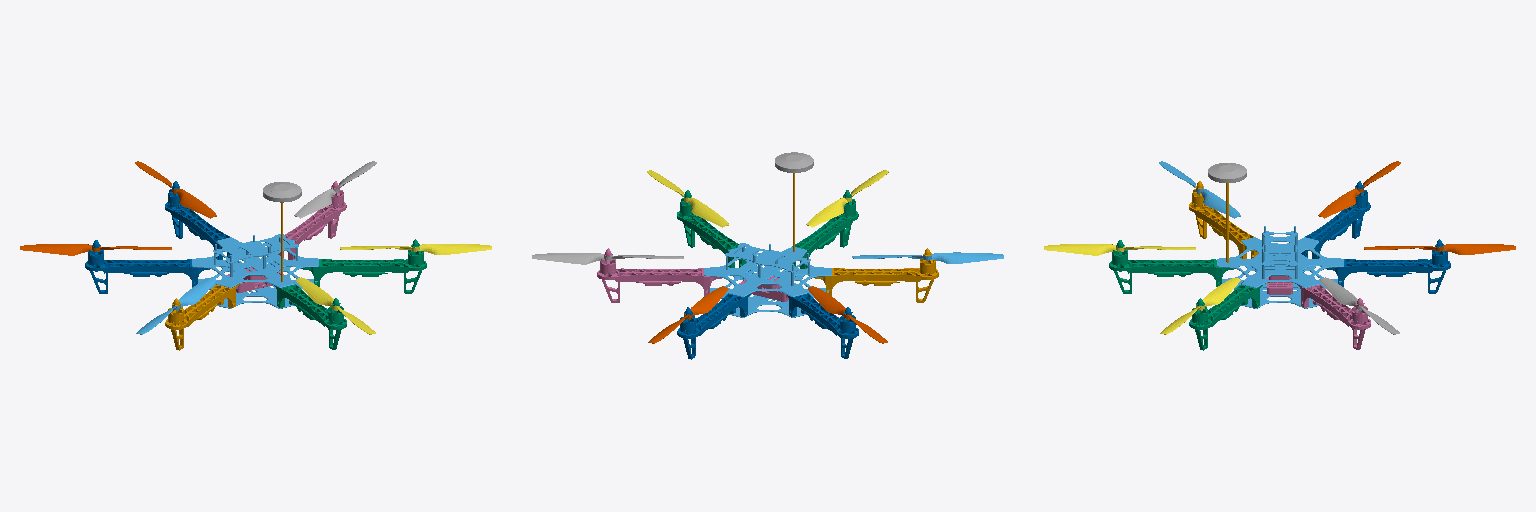
--- What the picture shows (computed from the rendered views, not written in the file) ---
3 views of the same robot in one strip: view 1: azimuth 30°, elevation 25°; view 2: azimuth 150°, elevation 25°; view 3: azimuth 270°, elevation 25° (orthographic).
Model F550_rd_0 with 20 links and 19 joints (2 revolute, 6 continuous, 11 fixed), rooted at uav_0_base_link, posed every joint at zero.
Links seen in each view (by area): view 1: uav_0_base_link_inertia, wing_5, wing_4, wing_3, wing_0, wing_2, wing_1, rotor_4, rotor_5, rotor_0, rotor_3, rotor_2 (+2 smaller); view 2: uav_0_base_link_inertia, wing_2, wing_3, wing_1, wing_5, wing_0, wing_4, rotor_3, rotor_2, rotor_5, rotor_1, rotor_0 (+2 smaller); view 3: uav_0_base_link_inertia, wing_0, wing_1, wing_4, wing_2, wing_5, wing_3, rotor_1, rotor_0, rotor_2, rotor_4, rotor_5 (+2 smaller).
Boxes of the visible links, bbox=[...] form: uav_0_base_link_inertia: bbox=[192, 234, 318, 308]; wing_5: bbox=[85, 240, 209, 293]; wing_4: bbox=[302, 239, 426, 293]; wing_3: bbox=[165, 284, 238, 350]; wing_0: bbox=[275, 284, 346, 349]; wing_2: bbox=[278, 181, 346, 259]; wing_1: bbox=[165, 181, 230, 259]; rotor_4: bbox=[340, 244, 491, 254]; rotor_5: bbox=[20, 244, 171, 255]; rotor_0: bbox=[296, 277, 375, 334]; rotor_3: bbox=[136, 278, 216, 334]; rotor_2: bbox=[294, 161, 376, 218]; uav_0_base_link_inertia: bbox=[704, 243, 831, 317]; wing_2: bbox=[597, 248, 721, 302]; wing_3: bbox=[815, 248, 938, 302]; wing_1: bbox=[677, 294, 750, 359]; wing_5: bbox=[787, 293, 858, 358]; wing_0: bbox=[792, 190, 858, 268]; wing_4: bbox=[677, 190, 746, 267]; rotor_3: bbox=[852, 252, 1003, 263]; rotor_2: bbox=[532, 253, 683, 264]; rotor_5: bbox=[808, 286, 887, 343]; rotor_1: bbox=[648, 286, 728, 343]; rotor_0: bbox=[806, 170, 888, 227]; uav_0_base_link_inertia: bbox=[1217, 226, 1343, 308]; wing_0: bbox=[1109, 240, 1233, 293]; wing_1: bbox=[1327, 239, 1450, 293]; wing_4: bbox=[1189, 285, 1262, 350]; wing_2: bbox=[1298, 284, 1370, 349]; wing_5: bbox=[1301, 181, 1370, 258]; wing_3: bbox=[1189, 181, 1258, 258]; rotor_1: bbox=[1364, 244, 1515, 254]; rotor_0: bbox=[1044, 244, 1195, 255]; rotor_2: bbox=[1320, 277, 1399, 334]; rotor_4: bbox=[1160, 278, 1240, 334]; rotor_5: bbox=[1318, 161, 1400, 218].
Size in the robot's own frame: 0.7064 by 0.808 by 0.236 metres.
15 mesh visuals loaded from 8 distinct referenced files (6 binary STL); not drawn: 2 (reference not matched to a file when rendering).

robot.urdf — F550_rd_0:
<?xml version="1.0" ?>
<!-- =================================================================================== -->
<!-- |    This document was autogenerated by xacro from [local-path]/simulation/ros_catkin_ws/src/px4_simulation_stack-master/Tools/sitl_gazebo/models/F550_rd/F550_rd.xacro | -->
<!-- |    EDITING THIS FILE BY HAND IS NOT RECOMMENDED                                 | -->
<!-- =================================================================================== -->
<robot name="F550_rd_0" xmlns:xacro="http://www.ros.org/wiki/xacro">
  <link name="uav_0_base_link"/>
  <joint name="base_joint" type="fixed">
    <origin rpy="0 0 0" xyz="0 0 0"/>
    <parent link="uav_0_base_link"/>
    <child link="uav_0_base_link_inertia"/>
  </joint>
  <!-- uav_0_base_link -->
  <link name="uav_0_base_link_inertia">
    <inertial>
      <mass value="1.5"/>
      <!-- [kg] -->
      <origin xyz="0 0 0"/>
      <inertia ixx="0.00012113" ixy="-2.4623E-08" ixz="1.6419E-06" iyy="0.00013125" iyz="6.0617E-07" izz="1.8253E-05"/>
    </inertial>
    <visual>
      <origin rpy="0 0 0" xyz="0 0 0"/>
      <geometry>
        <mesh filename="model://F550/meshes/base_link.STL" scale="1 1 1"/>
      </geometry>
    </visual>
    <collision>
      <origin rpy="0 0 0" xyz="0 0 0.03"/>
      <geometry>
        <cylinder length="0.13" radius="0.295"/>
      </geometry>
    </collision>
  </link>
  <gazebo>
    <plugin filename="libgazebo_multirotor_base_plugin.so" name="rosbag">
      <robotNamespace></robotNamespace>
      <linkName>uav_0_base_link</linkName>
      <rotorVelocitySlowdownSim>10</rotorVelocitySlowdownSim>
    </plugin>
  </gazebo>
  <gazebo reference="uav_0_base_link">
    <material>Gazebo/Black</material>
    <collision name="uav_0_base_link_inertia_collision">
      <surface>
        <contact>
          <ode>
            <min_depth>0.001</min_depth>
            <max_vel>0.0</max_vel>
          </ode>
        </contact>
        <friction>
          <ode/>
        </friction>
      </surface>
    </collision>
  </gazebo>
  <!-- wing joint -->
  <joint name="wing_0_joint" type="fixed">
    <origin rpy="0 0 -1.57079632679" xyz="0 -0.1875 0.026"/>
    <axis xyz="0 0 0"/>
    <parent link="uav_0_base_link"/>
    <child link="wing_0"/>
  </joint>
  <!-- wing link -->
  <link name="wing_0">
    <inertial>
      <origin rpy="0 0 0" xyz="0.033233 0.00054387 0.012567"/>
      <mass value="0.11819"/>
      <inertia ixx="2.1906E-05" ixy="7.962E-07" ixz="-6.9968E-05" iyy="0.0002878" iyz="2.0567E-07" izz="0.0002659"/>
    </inertial>
    <visual>
      <geometry>
        <mesh filename="model://F550/meshes/wing.STL" scale="1 1 1"/>
      </geometry>
    </visual>
  </link>
  <gazebo reference="wing_0">
    <material>Gazebo/White</material>
  </gazebo>
  <!-- rotor joint -->
  <joint name="rotor_0_joint" type="continuous">
    <origin rpy="0 0 0" xyz="0.0865 0.0005 0.033"/>
    <axis xyz="0 0 1"/>
    <parent link="wing_0"/>
    <child link="rotor_0"/>
  </joint>
  <!-- rotor link -->
  <link name="rotor_0">
    <inertial>
      <origin rpy="0 0 0" xyz="0 0 0.0078525"/>
      <mass value="0.0091837"/>
      <inertia ixx="3.009E-07" ixy="1.5042E-07" ixz="0" iyy="3.4024E-05" iyz="0" izz="3.4239E-05"/>
    </inertial>
    <visual>
      <geometry>
        <mesh filename="model://F550/meshes/cw_prop.STL" scale="1 1 1"/>
      </geometry>
    </visual>
    <collision>
      <geometry>
        <cylinder length="0.03" radius="0.13"/>
      </geometry>
    </collision>
  </link>
  <gazebo>
    <plugin filename="libgazebo_motor_model.so" name="right_motor_model">
      <robotNamespace></robotNamespace>
      <jointName>rotor_0_joint</jointName>
      <linkName>rotor_0</linkName>
      <turningDirection>cw</turningDirection>
      <timeConstantUp>0.0125</timeConstantUp>
      <timeConstantDown>0.025</timeConstantDown>
      <maxRotVelocity>1500</maxRotVelocity>
      <motorConstant>8.54858e-06</motorConstant>
      <momentConstant>0.06</momentConstant>
      <commandSubTopic>/gazebo/command/motor_speed</commandSubTopic>
      <motorNumber>0</motorNumber>
      <rotorDragCoefficient>0.000806428</rotorDragCoefficient>
      <rollingMomentCoefficient>1e-06</rollingMomentCoefficient>
      <motorSpeedPubTopic>/motor_speed/0</motorSpeedPubTopic>
      <rotorVelocitySlowdownSim>10</rotorVelocitySlowdownSim>
    </plugin>
  </gazebo>
  <gazebo reference="rotor_0">
    <material>Gazebo/Black</material>
  </gazebo>
  <!-- wing joint -->
  <joint name="wing_1_joint" type="fixed">
    <origin rpy="0 0 1.57079632679" xyz="0 0.1875 0.026"/>
    <axis xyz="0 0 0"/>
    <parent link="uav_0_base_link"/>
    <child link="wing_1"/>
  </joint>
  <!-- wing link -->
  <link name="wing_1">
    <inertial>
      <origin rpy="0 0 0" xyz="0.033233 0.00054387 0.012567"/>
      <mass value="0.11819"/>
      <inertia ixx="2.1906E-05" ixy="7.962E-07" ixz="-6.9968E-05" iyy="0.0002878" iyz="2.0567E-07" izz="0.0002659"/>
    </inertial>
    <visual>
      <geometry>
        <mesh filename="model://F550/meshes/wing.STL" scale="1 1 1"/>
      </geometry>
    </visual>
  </link>
  <gazebo reference="wing_1">
    <material>Gazebo/White</material>
  </gazebo>
  <!-- rotor joint -->
  <joint name="rotor_1_joint" type="continuous">
    <origin rpy="0 0 0" xyz="0.0865 0.0005 0.033"/>
    <axis xyz="0 0 1"/>
    <parent link="wing_1"/>
    <child link="rotor_1"/>
  </joint>
  <!-- rotor link -->
  <link name="rotor_1">
    <inertial>
      <origin rpy="0 0 0" xyz="0 0 0.0078525"/>
      <mass value="0.0091837"/>
      <inertia ixx="3.00752E-07" ixy="-1.4455E-07" ixz="0" iyy="3.41061E-05" iyz="0" izz="3.43204E-05"/>
    </inertial>
    <visual>
      <geometry>
        <mesh filename="model://F550/meshes/ccw_prop.STL" scale="1 1 1"/>
      </geometry>
    </visual>
    <collision>
      <geometry>
        <cylinder length="0.03" radius="0.13"/>
      </geometry>
    </collision>
  </link>
  <gazebo>
    <plugin filename="libgazebo_motor_model.so" name="left_motor_model">
      <robotNamespace></robotNamespace>
      <jointName>rotor_1_joint</jointName>
      <linkName>rotor_1</linkName>
      <turningDirection>ccw</turningDirection>
      <timeConstantUp>0.0125</timeConstantUp>
      <timeConstantDown>0.025</timeConstantDown>
      <maxRotVelocity>1500</maxRotVelocity>
      <motorConstant>8.54858e-06</motorConstant>
      <momentConstant>0.06</momentConstant>
      <commandSubTopic>/gazebo/command/motor_speed</commandSubTopic>
      <motorNumber>1</motorNumber>
      <rotorDragCoefficient>0.000806428</rotorDragCoefficient>
      <rollingMomentCoefficient>1e-06</rollingMomentCoefficient>
      <motorSpeedPubTopic>/motor_speed/1</motorSpeedPubTopic>
      <rotorVelocitySlowdownSim>10</rotorVelocitySlowdownSim>
    </plugin>
  </gazebo>
  <gazebo reference="rotor_1">
    <material>Gazebo/Orange</material>
  </gazebo>
  <!-- wing joint -->
  <joint name="wing_2_joint" type="fixed">
    <origin rpy="0 0 0.523598775598" xyz="0.16237976321 0.09375 0.026"/>
    <axis xyz="0 0 0"/>
    <parent link="uav_0_base_link"/>
    <child link="wing_2"/>
  </joint>
  <!-- wing link -->
  <link name="wing_2">
    <inertial>
      <origin rpy="0 0 0" xyz="0.033233 0.00054387 0.012567"/>
      <mass value="0.11819"/>
      <inertia ixx="2.1906E-05" ixy="7.962E-07" ixz="-6.9968E-05" iyy="0.0002878" iyz="2.0567E-07" izz="0.0002659"/>
    </inertial>
    <visual>
      <geometry>
        <mesh filename="model://F550/meshes/wing.STL" scale="1 1 1"/>
      </geometry>
    </visual>
  </link>
  <gazebo reference="wing_2">
    <material>Gazebo/White</material>
  </gazebo>
  <!-- rotor joint -->
  <joint name="rotor_2_joint" type="continuous">
    <origin rpy="0 0 0" xyz="0.0865 0.0005 0.033"/>
    <axis xyz="0 0 1"/>
    <parent link="wing_2"/>
    <child link="rotor_2"/>
  </joint>
  <!-- rotor link -->
  <link name="rotor_2">
    <inertial>
      <origin rpy="0 0 0" xyz="0 0 0.0078525"/>
      <mass value="0.0091837"/>
      <inertia ixx="3.009E-07" ixy="1.5042E-07" ixz="0" iyy="3.4024E-05" iyz="0" izz="3.4239E-05"/>
    </inertial>
    <visual>
      <geometry>
        <mesh filename="model://F550/meshes/cw_prop.STL" scale="1 1 1"/>
      </geometry>
    </visual>
    <collision>
      <geometry>
        <cylinder length="0.03" radius="0.13"/>
      </geometry>
    </collision>
  </link>
  <gazebo>
    <plugin filename="libgazebo_motor_model.so" name="left_front_motor_model">
      <robotNamespace></robotNamespace>
      <jointName>rotor_2_joint</jointName>
      <linkName>rotor_2</linkName>
      <turningDirection>cw</turningDirection>
      <timeConstantUp>0.0125</timeConstantUp>
      <timeConstantDown>0.025</timeConstantDown>
      <maxRotVelocity>1500</maxRotVelocity>
      <motorConstant>8.54858e-06</motorConstant>
      <momentConstant>0.06</momentConstant>
      <commandSubTopic>/gazebo/command/motor_speed</commandSubTopic>
      <motorNumber>2</motorNumber>
      <rotorDragCoefficient>0.000806428</rotorDragCoefficient>
      <rollingMomentCoefficient>1e-06</rollingMomentCoefficient>
      <motorSpeedPubTopic>/motor_speed/2</motorSpeedPubTopic>
      <rotorVelocitySlowdownSim>10</rotorVelocitySlowdownSim>
    </plugin>
  </gazebo>
  <gazebo reference="rotor_2">
    <material>Gazebo/Black</material>
  </gazebo>
  <!-- wing joint -->
  <joint name="wing_3_joint" type="fixed">
    <origin rpy="0 0 -2.61799387799" xyz="-0.16237976321 -0.09375 0.026"/>
    <axis xyz="0 0 0"/>
    <parent link="uav_0_base_link"/>
    <child link="wing_3"/>
  </joint>
  <!-- wing link -->
  <link name="wing_3">
    <inertial>
      <origin rpy="0 0 0" xyz="0.033233 0.00054387 0.012567"/>
      <mass value="0.11819"/>
      <inertia ixx="2.1906E-05" ixy="7.962E-07" ixz="-6.9968E-05" iyy="0.0002878" iyz="2.0567E-07" izz="0.0002659"/>
    </inertial>
    <visual>
      <geometry>
        <mesh filename="model://F550/meshes/wing.STL" scale="1 1 1"/>
      </geometry>
    </visual>
  </link>
  <gazebo reference="wing_3">
    <material>Gazebo/Red</material>
  </gazebo>
  <!-- rotor joint -->
  <joint name="rotor_3_joint" type="continuous">
    <origin rpy="0 0 0" xyz="0.0865 0.0005 0.033"/>
    <axis xyz="0 0 1"/>
    <parent link="wing_3"/>
    <child link="rotor_3"/>
  </joint>
  <!-- rotor link -->
  <link name="rotor_3">
    <inertial>
      <origin rpy="0 0 0" xyz="0 0 0.0078525"/>
      <mass value="0.0091837"/>
      <inertia ixx="3.00752E-07" ixy="-1.4455E-07" ixz="0" iyy="3.41061E-05" iyz="0" izz="3.43204E-05"/>
    </inertial>
    <visual>
      <geometry>
        <mesh filename="model://F550/meshes/ccw_prop.STL" scale="1 1 1"/>
      </geometry>
    </visual>
    <collision>
      <geometry>
        <cylinder length="0.03" radius="0.13"/>
      </geometry>
    </collision>
  </link>
  <gazebo>
    <plugin filename="libgazebo_motor_model.so" name="right_rear_motor_model">
      <robotNamespace></robotNamespace>
      <jointName>rotor_3_joint</jointName>
      <linkName>rotor_3</linkName>
      <turningDirection>ccw</turningDirection>
      <timeConstantUp>0.0125</timeConstantUp>
      <timeConstantDown>0.025</timeConstantDown>
      <maxRotVelocity>1500</maxRotVelocity>
      <motorConstant>8.54858e-06</motorConstant>
      <momentConstant>0.06</momentConstant>
      <commandSubTopic>/gazebo/command/motor_speed</commandSubTopic>
      <motorNumber>3</motorNumber>
      <rotorDragCoefficient>0.000806428</rotorDragCoefficient>
      <rollingMomentCoefficient>1e-06</rollingMomentCoefficient>
      <motorSpeedPubTopic>/motor_speed/3</motorSpeedPubTopic>
      <rotorVelocitySlowdownSim>10</rotorVelocitySlowdownSim>
    </plugin>
  </gazebo>
  <gazebo reference="rotor_3">
    <material>Gazebo/Orange</material>
  </gazebo>
  <!-- wing joint -->
  <joint name="wing_4_joint" type="fixed">
    <origin rpy="0 0 -0.523598775598" xyz="0.16237976321 -0.09375 0.026"/>
    <axis xyz="0 0 0"/>
    <parent link="uav_0_base_link"/>
    <child link="wing_4"/>
  </joint>
  <!-- wing link -->
  <link name="wing_4">
    <inertial>
      <origin rpy="0 0 0" xyz="0.033233 0.00054387 0.012567"/>
      <mass value="0.11819"/>
      <inertia ixx="2.1906E-05" ixy="7.962E-07" ixz="-6.9968E-05" iyy="0.0002878" iyz="2.0567E-07" izz="0.0002659"/>
    </inertial>
    <visual>
      <geometry>
        <mesh filename="model://F550/meshes/wing.STL" scale="1 1 1"/>
      </geometry>
    </visual>
  </link>
  <gazebo reference="wing_4">
    <material>Gazebo/White</material>
  </gazebo>
  <!-- rotor joint -->
  <joint name="rotor_4_joint" type="continuous">
    <origin rpy="0 0 0" xyz="0.0865 0.0005 0.033"/>
    <axis xyz="0 0 1"/>
    <parent link="wing_4"/>
    <child link="rotor_4"/>
  </joint>
  <!-- rotor link -->
  <link name="rotor_4">
    <inertial>
      <origin rpy="0 0 0" xyz="0 0 0.0078525"/>
      <mass value="0.0091837"/>
      <inertia ixx="3.00752E-07" ixy="-1.4455E-07" ixz="0" iyy="3.41061E-05" iyz="0" izz="3.43204E-05"/>
    </inertial>
    <visual>
      <geometry>
        <mesh filename="model://F550/meshes/ccw_prop.STL" scale="1 1 1"/>
      </geometry>
    </visual>
    <collision>
      <geometry>
        <cylinder length="0.03" radius="0.13"/>
      </geometry>
    </collision>
  </link>
  <gazebo>
    <plugin filename="libgazebo_motor_model.so" name="right_front_motor_model">
      <robotNamespace></robotNamespace>
      <jointName>rotor_4_joint</jointName>
      <linkName>rotor_4</linkName>
      <turningDirection>ccw</turningDirection>
      <timeConstantUp>0.0125</timeConstantUp>
      <timeConstantDown>0.025</timeConstantDown>
      <maxRotVelocity>1500</maxRotVelocity>
      <motorConstant>8.54858e-06</motorConstant>
      <momentConstant>0.06</momentConstant>
      <commandSubTopic>/gazebo/command/motor_speed</commandSubTopic>
      <motorNumber>4</motorNumber>
      <rotorDragCoefficient>0.000806428</rotorDragCoefficient>
      <rollingMomentCoefficient>1e-06</rollingMomentCoefficient>
      <motorSpeedPubTopic>/motor_speed/4</motorSpeedPubTopic>
      <rotorVelocitySlowdownSim>10</rotorVelocitySlowdownSim>
    </plugin>
  </gazebo>
  <gazebo reference="rotor_4">
    <material>Gazebo/Orange</material>
  </gazebo>
  <!-- wing joint -->
  <joint name="wing_5_joint" type="fixed">
    <origin rpy="0 0 2.61799387799" xyz="-0.16237976321 0.09375 0.026"/>
    <axis xyz="0 0 0"/>
    <parent link="uav_0_base_link"/>
    <child link="wing_5"/>
  </joint>
  <!-- wing link -->
  <link name="wing_5">
    <inertial>
      <origin rpy="0 0 0" xyz="0.033233 0.00054387 0.012567"/>
      <mass value="0.11819"/>
      <inertia ixx="2.1906E-05" ixy="7.962E-07" ixz="-6.9968E-05" iyy="0.0002878" iyz="2.0567E-07" izz="0.0002659"/>
    </inertial>
    <visual>
      <geometry>
        <mesh filename="model://F550/meshes/wing.STL" scale="1 1 1"/>
      </geometry>
    </visual>
  </link>
  <gazebo reference="wing_5">
    <material>Gazebo/Red</material>
  </gazebo>
  <!-- rotor joint -->
  <joint name="rotor_5_joint" type="continuous">
    <origin rpy="0 0 0" xyz="0.0865 0.0005 0.033"/>
    <axis xyz="0 0 1"/>
    <parent link="wing_5"/>
    <child link="rotor_5"/>
  </joint>
  <!-- rotor link -->
  <link name="rotor_5">
    <inertial>
      <origin rpy="0 0 0" xyz="0 0 0.0078525"/>
      <mass value="0.0091837"/>
      <inertia ixx="3.009E-07" ixy="1.5042E-07" ixz="0" iyy="3.4024E-05" iyz="0" izz="3.4239E-05"/>
    </inertial>
    <visual>
      <geometry>
        <mesh filename="model://F550/meshes/cw_prop.STL" scale="1 1 1"/>
      </geometry>
    </visual>
    <collision>
      <geometry>
        <cylinder length="0.03" radius="0.13"/>
      </geometry>
    </collision>
  </link>
  <gazebo>
    <plugin filename="libgazebo_motor_model.so" name="left_rear_motor_model">
      <robotNamespace></robotNamespace>
      <jointName>rotor_5_joint</jointName>
      <linkName>rotor_5</linkName>
      <turningDirection>cw</turningDirection>
      <timeConstantUp>0.0125</timeConstantUp>
      <timeConstantDown>0.025</timeConstantDown>
      <maxRotVelocity>1500</maxRotVelocity>
      <motorConstant>8.54858e-06</motorConstant>
      <momentConstant>0.06</momentConstant>
      <commandSubTopic>/gazebo/command/motor_speed</commandSubTopic>
      <motorNumber>5</motorNumber>
      <rotorDragCoefficient>0.000806428</rotorDragCoefficient>
      <rollingMomentCoefficient>1e-06</rollingMomentCoefficient>
      <motorSpeedPubTopic>/motor_speed/5</motorSpeedPubTopic>
      <rotorVelocitySlowdownSim>10</rotorVelocitySlowdownSim>
    </plugin>
  </gazebo>
  <gazebo reference="rotor_5">
    <material>Gazebo/Black</material>
  </gazebo>
  <!-- link -->
  <link name="pixhawk">
    <inertial>
      <origin rpy="0 0 0" xyz="-0.0024647 9.4432E-05 0.011865"/>
      <mass value="0.074008"/>
      <inertia ixx="3.8198E-06" ixy="-6.11E-09" ixz="2.3562E-07" iyy="3.8099E-06" iyz="7.5702E-08" izz="4.7645E-08"/>
    </inertial>
    <visual>
      <geometry>
        <mesh filename="model://F550/meshes/pixhawk.STL" scale="1 1 1"/>
      </geometry>
    </visual>
  </link>
  <gazebo reference="pixhawk">
    <material>Gazebo/FlatBlack</material>
  </gazebo>
  <!-- joint -->
  <joint name="pixhawk_fix" type="fixed">
    <origin rpy="0 0 0" xyz="0 0 0"/>
    <parent link="uav_0_base_link"/>
    <child link="pixhawk"/>
    <axis xyz="0 0 0"/>
  </joint>
  <!-- link -->
  <link name="here_gps">
    <inertial>
      <origin rpy="0 0 0" xyz="-6.68E-05 -0.0084082 1.31210000000051E-06"/>
      <mass value="0.045664"/>
      <inertia ixx="1.18897973921917E-05" ixy="1.90905250559444E-08" ixz="-4.16447287511186E-11" iyy="2.23807703040404E-05" iyz="2.02155100330627E-11" izz="1.19471291213534E-05"/>
    </inertial>
    <visual>
      <geometry>
        <mesh filename="model://F550/meshes/here_gps.STL" scale="1 1 1"/>
      </geometry>
    </visual>
  </link>
  <gazebo reference="here_gps">
    <material>Gazebo/DarkGrey</material>
  </gazebo>
  <!-- joint -->
  <joint name="here_gps_fix" type="fixed">
    <origin rpy="0 0 0" xyz="0 -0.09 0.20"/>
    <parent link="uav_0_base_link"/>
    <child link="here_gps"/>
    <axis xyz="0 0 0"/>
  </joint>
  <!-- GPS Holder -->
  <!-- link -->
  <link name="gps_holder">
    <visual>
      <geometry>
        <cylinder length="0.165" radius="0.002"/>
      </geometry>
    </visual>
  </link>
  <gazebo reference="gps_holder">
    <material>Gazebo/DarkGrey</material>
  </gazebo>
  <!-- joint -->
  <joint name="gps_holder_fix" type="fixed">
    <origin rpy="0 0 0" xyz="0 -0.09 0.122"/>
    <parent link="uav_0_base_link"/>
    <child link="gps_holder"/>
  </joint>
  <gazebo>
    <plugin filename="libgazebo_gps_plugin.so" name="gps_plugin">
      <robotNamespace></robotNamespace>
      <gpsNoise>true</gpsNoise>
    </plugin>
  </gazebo>
  <gazebo>
    <plugin filename="libgazebo_mavlink_interface.so" name="mavlink_interface">
      <robotNamespace></robotNamespace>
      <imuSubTopic>/imu</imuSubTopic>
      <gpsSubTopic>/gps</gpsSubTopic>
      <mavlink_addr>INADDR_ANY</mavlink_addr>
      <mavlink_udp_port>14560</mavlink_udp_port>
      <serialEnabled>false</serialEnabled>
      <serialDevice>/dev/ttyACM0</serialDevice>
      <baudRate>921600</baudRate>
      <qgc_addr>INADDR_ANY</qgc_addr>
      <qgc_udp_port>14550</qgc_udp_port>
      <hil_mode>false</hil_mode>
      <hil_state_level>false</hil_state_level>
      <vehicle_is_tailsitter>false</vehicle_is_tailsitter>
      <send_odometry>false</send_odometry>
      <motorSpeedCommandPubTopic>/gazebo/command/motor_speed</motorSpeedCommandPubTopic>
      <control_channels>
        <channel name="rotor1">
          <input_index>0</input_index>
          <input_offset>0</input_offset>
          <input_scaling>1000</input_scaling>
          <zero_position_disarmed>0</zero_position_disarmed>
          <zero_position_armed>100</zero_position_armed>
          <joint_control_type>velocity</joint_control_type>
          <joint_name>rotor_0_joint</joint_name>
        </channel>
        <channel name="rotor2">
          <input_index>1</input_index>
          <input_offset>0</input_offset>
          <input_scaling>1000</input_scaling>
          <zero_position_disarmed>0</zero_position_disarmed>
          <zero_position_armed>100</zero_position_armed>
          <joint_control_type>velocity</joint_control_type>
          <joint_name>rotor_1_joint</joint_name>
        </channel>
        <channel name="rotor3">
          <input_index>2</input_index>
          <input_offset>0</input_offset>
          <input_scaling>1000</input_scaling>
          <zero_position_disarmed>0</zero_position_disarmed>
          <zero_position_armed>100</zero_position_armed>
          <joint_control_type>velocity</joint_control_type>
          <joint_name>rotor_2_joint</joint_name>
        </channel>
        <channel name="rotor4">
          <input_index>3</input_index>
          <input_offset>0</input_offset>
          <input_scaling>1000</input_scaling>
          <zero_position_disarmed>0</zero_position_disarmed>
          <zero_position_armed>100</zero_position_armed>
          <joint_control_type>velocity</joint_control_type>
          <joint_name>rotor_3_joint</joint_name>
        </channel>
        <channel name="rotor5">
          <input_index>4</input_index>
          <input_offset>0</input_offset>
          <input_scaling>1000</input_scaling>
          <zero_position_disarmed>0</zero_position_disarmed>
          <zero_position_armed>100</zero_position_armed>
          <joint_control_type>velocity</joint_control_type>
          <joint_name>rotor_4_joint</joint_name>
        </channel>
        <channel name="rotor6">
          <input_index>5</input_index>
          <input_offset>0</input_offset>
          <input_scaling>1000</input_scaling>
          <zero_position_disarmed>0</zero_position_disarmed>
          <zero_position_armed>100</zero_position_armed>
          <joint_control_type>velocity</joint_control_type>
          <joint_name>rotor_5_joint</joint_name>
        </channel>
      </control_channels>
    </plugin>
  </gazebo>
  <static>0</static>
  <!-- IMU Link -->
  <link name="/imu_link">
    <inertial>
      <inertia ixx="1e-05" ixy="0" ixz="0" iyy="1e-05" iyz="0" izz="1e-05"/>
      <mass value="0.015"/>
      <!-- kg -->
      <origin rpy="0 0 0" xyz="0 0 0"/>
    </inertial>
  </link>
  <!-- IMU Joint -->
  <joint name="/imu_joint" type="revolute">
    <origin rpy="0 0 0" xyz="0 0 0"/>
    <parent link="uav_0_base_link"/>
    <child link="/imu_link"/>
    <limit effort="0" lower="0" upper="0" velocity="0"/>
  </joint>
  <gazebo>
    <plugin filename="libgazebo_imu_plugin.so" name="rotors_gazebo_imu_plugin">
      <!-- See below for the details of parameters:
            https://github.com/ethz-asl/kalibr/wiki/IMU-Noise-Model-and-Intrinsics -->
      <robotNamespace></robotNamespace>
      <linkName>/imu_link</linkName>
      <imuTopic>/imu</imuTopic>
      <gyroscopeNoiseDensity>0.0003394</gyroscopeNoiseDensity>
      <gyroscopeRandomWalk>3.8785e-05</gyroscopeRandomWalk>
      <gyroscopeBiasCorrelationTime>1000.0</gyroscopeBiasCorrelationTime>
      <gyroscopeTurnOnBiasSigma>0.0087</gyroscopeTurnOnBiasSigma>
      <accelerometerNoiseDensity>0.004</accelerometerNoiseDensity>
      <accelerometerRandomWalk>0.006</accelerometerRandomWalk>
      <accelerometerBiasCorrelationTime>300.0</accelerometerBiasCorrelationTime>
      <accelerometerTurnOnBiasSigma>0.196</accelerometerTurnOnBiasSigma>
    </plugin>
  </gazebo>
  <!-- LiDAR Link -->
  <link name="uav_0_lidar_link">
    <inertial>
      <mass value="0.3"/>
      <inertia ixx="0.00023701" ixy="0" ixz="0" iyy="0.00023618" iyz="0" izz="0.00014751"/>
    </inertial>
    <visual>
      <geometry>
        <mesh filename="package://F550_rd/meshes/hokuyo.STL" scale="1 1 1"/>
      </geometry>
    </visual>
  </link>
  <!-- Joint -->
  <joint name="lidar_joint" type="revolute">
    <origin rpy="0 0 0" xyz="0.044 0 0.0655"/>
    <child link="uav_0_lidar_link"/>
    <parent link="uav_0_base_link"/>
    <limit effort="0" lower="0" upper="0" velocity="0"/>
  </joint>
  <!-- Sensor -->
  <gazebo reference="uav_0_lidar_link">
    <material>Gazebo/DarkGrey</material>
    <sensor name="laser" type="ray">
      <pose>0 0 0.055 0 0 0</pose>
      <ray>
        <scan>
          <horizontal>
            <samples>720</samples>
            <resolution>1</resolution>
            <min_angle>-3.14</min_angle>
            <max_angle>3.14</max_angle>
          </horizontal>
        </scan>
        <range>
          <min>0.1</min>
          <max>30</max>
          <resolution>0.01</resolution>
        </range>
        <noise>
          <type>gaussian</type>
          <mean>0.0</mean>
          <stddev>0.01</stddev>
        </noise>
      </ray>
      <plugin filename="libgazebo_ros_laser.so" name="LaserPlugin">
        <topicName>/laser/scan</topicName>
        <frameName>uav_0_lidar_link</frameName>
      </plugin>
      <always_on>1</always_on>
      <update_rate>40</update_rate>
      <visualize>true</visualize>
    </sensor>
  </gazebo>
  <!-- Odroid -->
  <link name="uav_0_odroid_link">
    <inertial>
      <origin rpy="0 0 0" xyz="0.0057413 0.00030748 -0.0052843"/>
      <mass value="0.08"/>
      <inertia ixx="4.4834E-06" ixy="3.2726E-07" ixz="1.7419E-07" iyy="6.5755E-06" iyz="1.4639E-08" izz="1.0308E-05"/>
    </inertial>
    <visual>
      <origin rpy="0 0 0" xyz="0 0 0"/>
      <geometry>
        <mesh filename="package://F550_rd/meshes/odroid_xu4.STL" scale="1 1 1"/>
      </geometry>
    </visual>
  </link>
  <joint name="odoroid_joint" type="fixed">
    <child link="uav_0_odroid_link"/>
    <parent link="uav_0_base_link"/>
    <origin rpy="0 0 0" xyz="-0.027 0 0.077"/>
  </joint>
  <gazebo reference="uav_0_odroid_link">
    <material>Gazebo/DarkGrey</material>
  </gazebo>
</robot>
